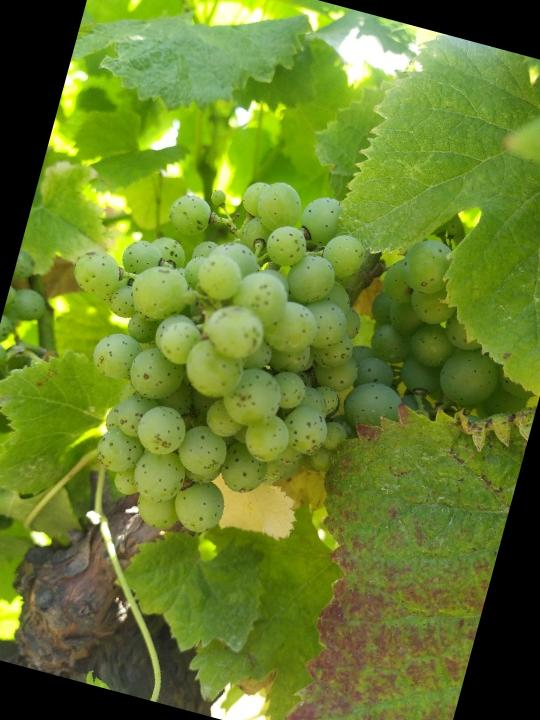grape: (11, 133, 409, 572)
